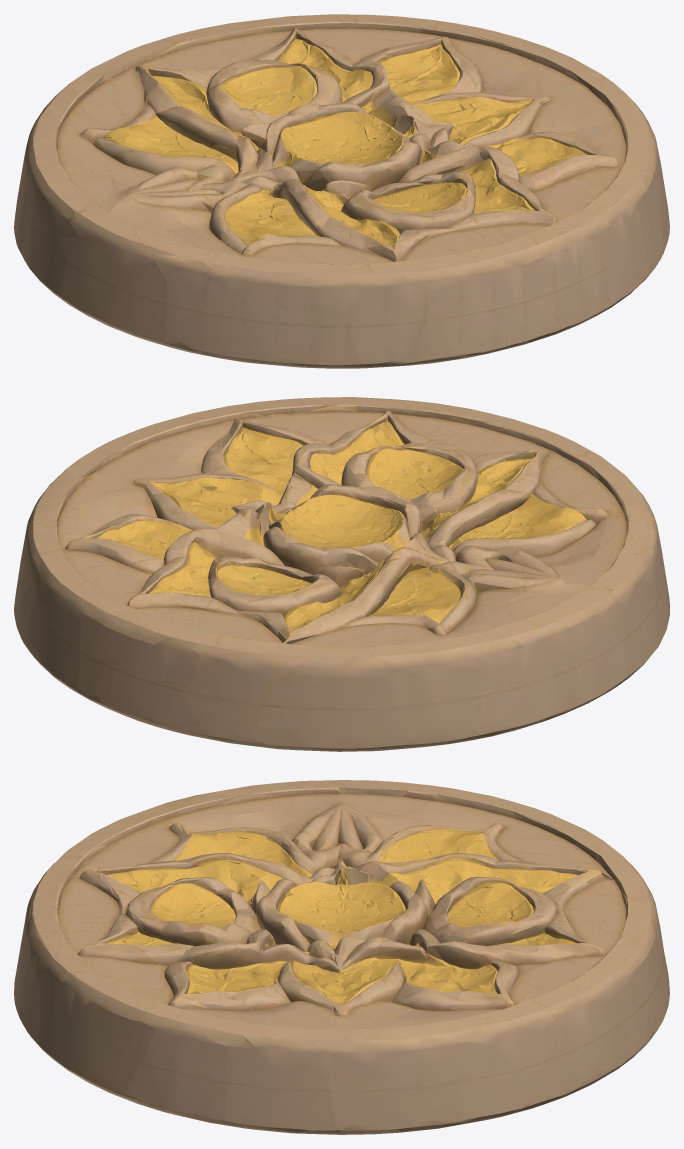
Rendered from LOTUS.glb.
3 renders of one model, top to bottom at view 1: azimuth 30°, elevation 25°; view 2: azimuth 150°, elevation 25°; view 3: azimuth 270°, elevation 25°, orthographic.
Visible parts, largest first — view 1: Mesh_0; view 2: Mesh_0; view 3: Mesh_0.
Boxes of the visible parts, left/top/right/bottom form: Mesh_0: left=14, top=14, right=669, bottom=368; Mesh_0: left=14, top=397, right=669, bottom=751; Mesh_0: left=14, top=780, right=669, bottom=1134.
Size of the model in its own units: 1.9 by 0.3379 by 1.9.
1 material, 1 textured.
